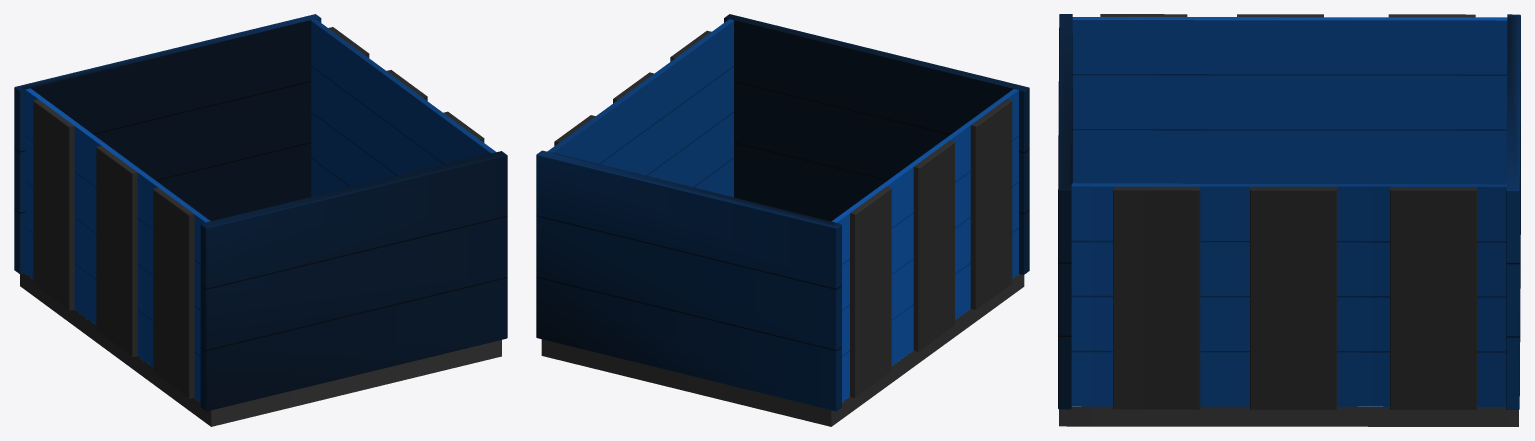
The model's file is Small Wide Crate wo_Lid#1.fbx.
The picture shows the model from 3 angles, left to right: view 1: azimuth 30°, elevation 25°; view 2: azimuth 150°, elevation 25°; view 3: azimuth 270°, elevation 25°; orthographic projection. The views are drawn at different scales.
Visible parts, largest first — view 1: Small Wide Colored Crate #1; view 2: Small Wide Colored Crate #1; view 3: Small Wide Colored Crate #1.
Part boxes in pixels (x1=…): Small Wide Colored Crate #1: x1=14, y1=14, x2=507, y2=426; Small Wide Colored Crate #1: x1=536, y1=14, x2=1029, y2=426; Small Wide Colored Crate #1: x1=1058, y1=14, x2=1520, y2=426.
Size of the model in its own units: 123 by 215 by 194.
1 material, 1 textured.
